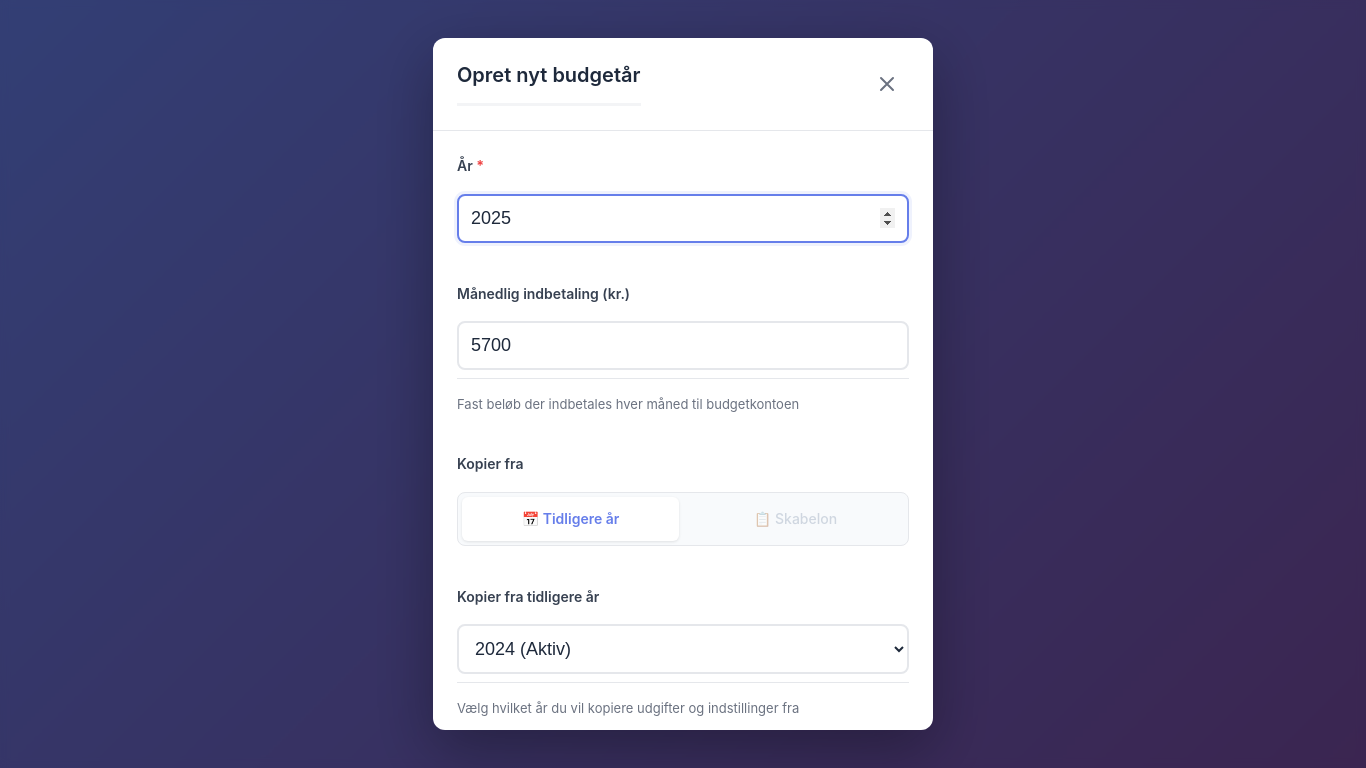
Test: CreateYearModal Integration Tests › Form Validation › should reject duplicate year
Replace the text in the number field labelled "År *" with "2024". click: (683, 218)
box: [457, 194, 909, 243]
(page scrolled)
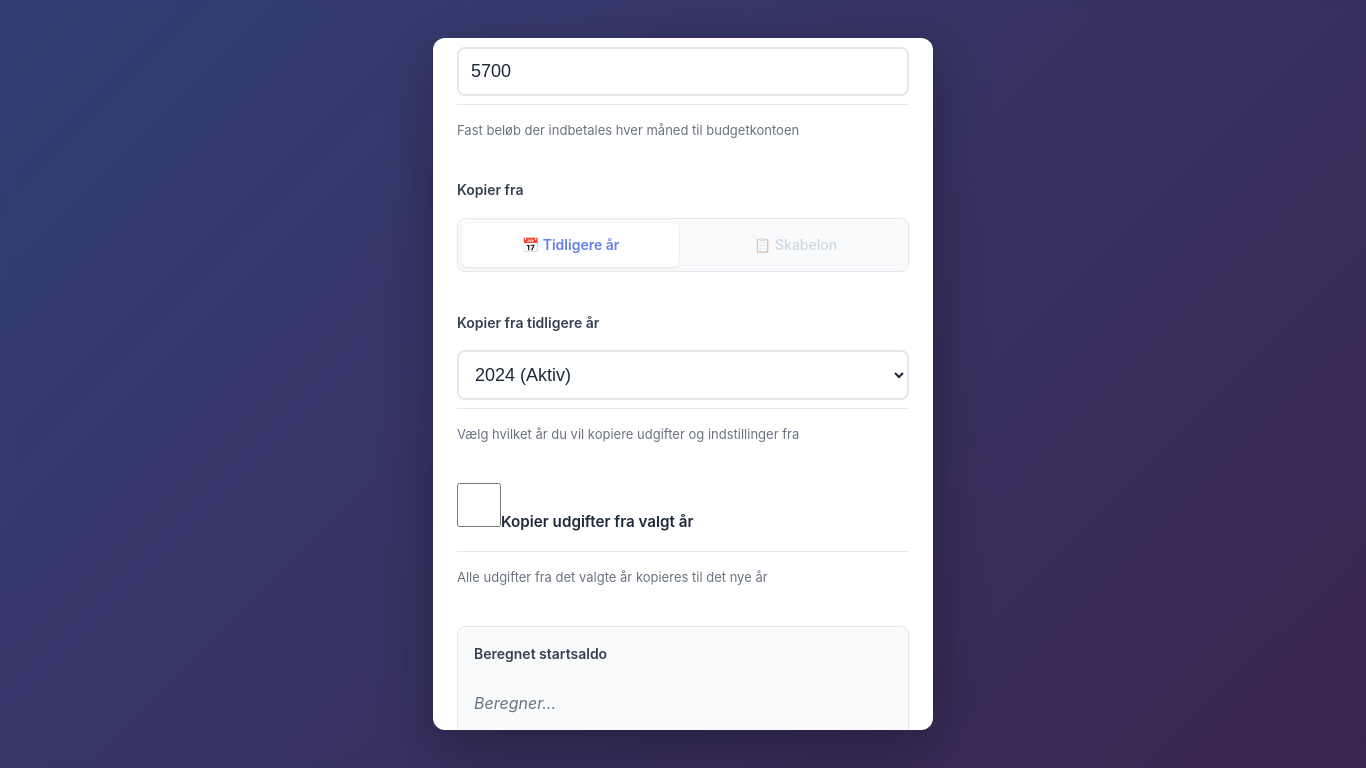
Submit the form labelled "År"
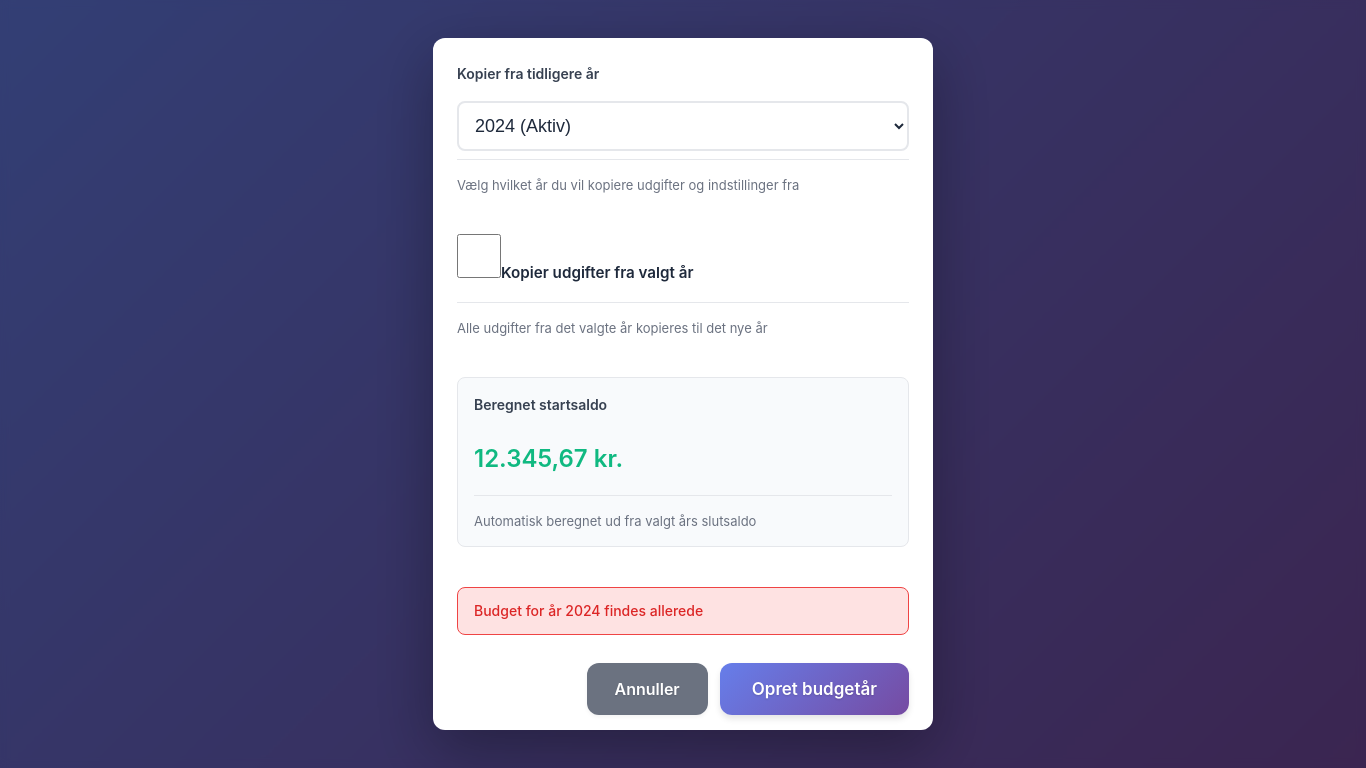
Now the text "Budget for år 2024 findes allerede" is shown, box [457, 587, 909, 635]
